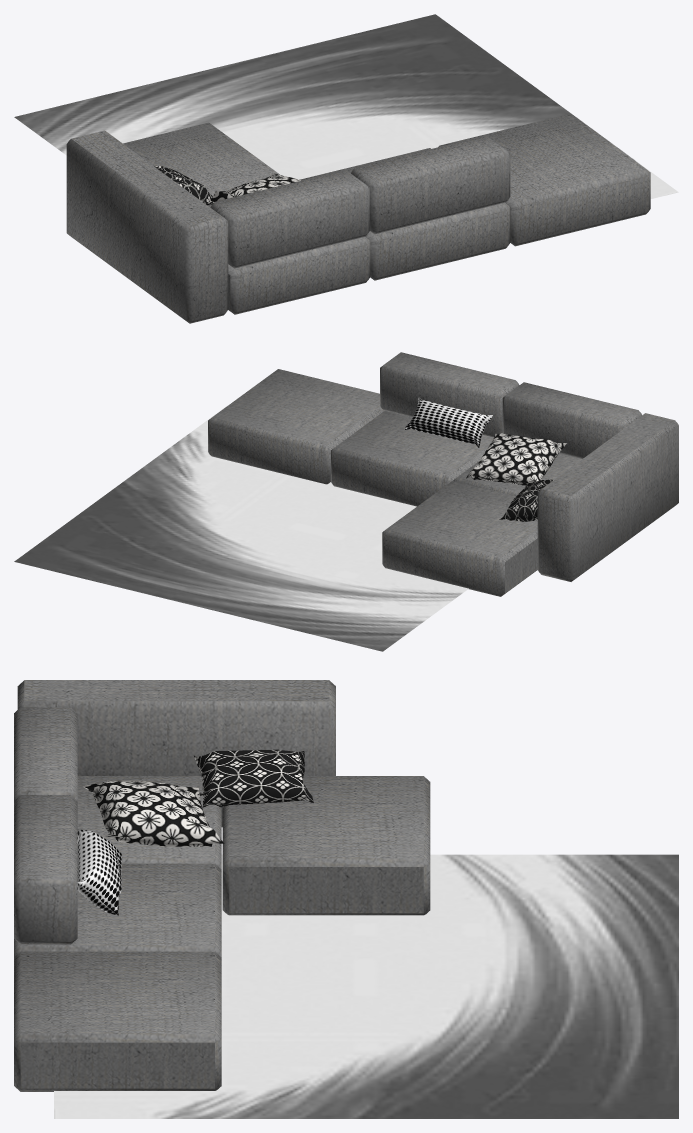
The model's file is FUR0210033.fbx.
3 views of the same model, one above another, from view 1: azimuth 30°, elevation 25°; view 2: azimuth 150°, elevation 25°; view 3: azimuth 270°, elevation 25° (orthographic). The views are drawn at different scales.
Parts seen in each view (by area): view 1: smFUR0210033; view 2: smFUR0210033; view 3: smFUR0210033.
Boxes of the visible parts, x1,y1,x2,y2 form: smFUR0210033: (14,14,678,323); smFUR0210033: (14,352,678,651); smFUR0210033: (14,680,678,1118).
Size of the model in its own units: 515 by 96.22 by 457.
Materials: 1 (1 with a texture image).
